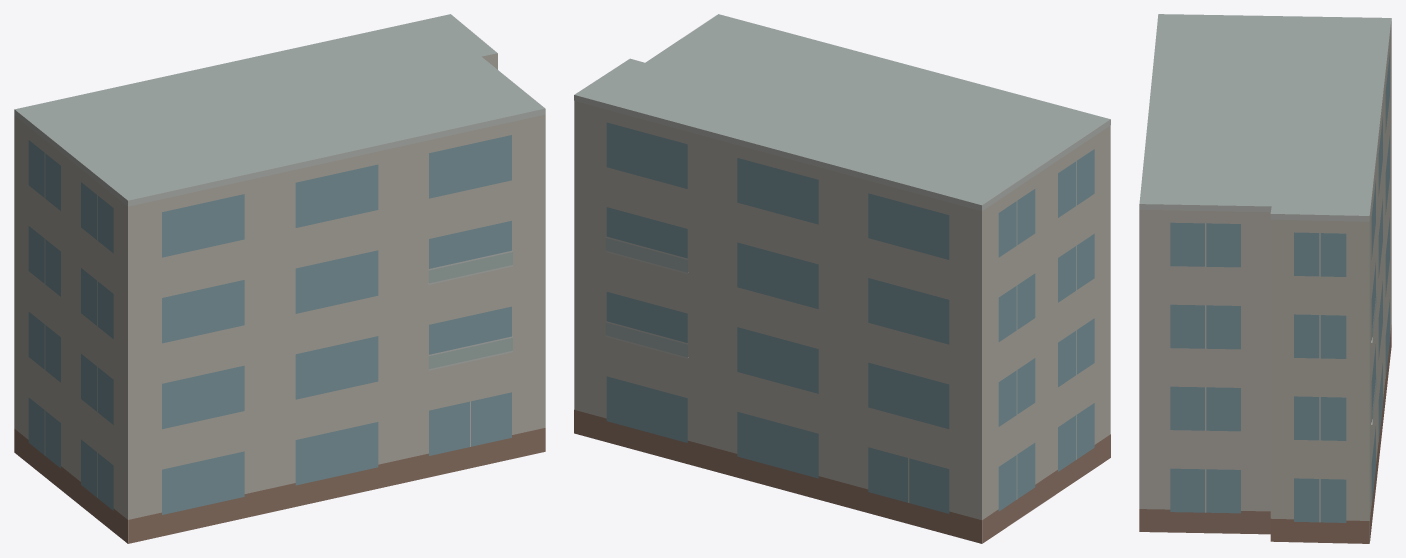
Rendered from survey-upis-32652737.glb.
The picture shows the model from 3 angles, left to right: view 1: azimuth 30°, elevation 25°; view 2: azimuth 150°, elevation 25°; view 3: azimuth 270°, elevation 25°; orthographic projection. The views are drawn at different scales.
Visible parts, largest first — view 1: survey-upis-32652737.tmp; view 2: survey-upis-32652737.tmp; view 3: survey-upis-32652737.tmp.
Part boxes in pixels (box(x1,y1,x2,y2)): survey-upis-32652737.tmp: box(14, 14, 545, 543); survey-upis-32652737.tmp: box(574, 14, 1110, 543); survey-upis-32652737.tmp: box(1139, 14, 1391, 543).
Size of the model in its own units: 18.51 by 14 by 9.77.
